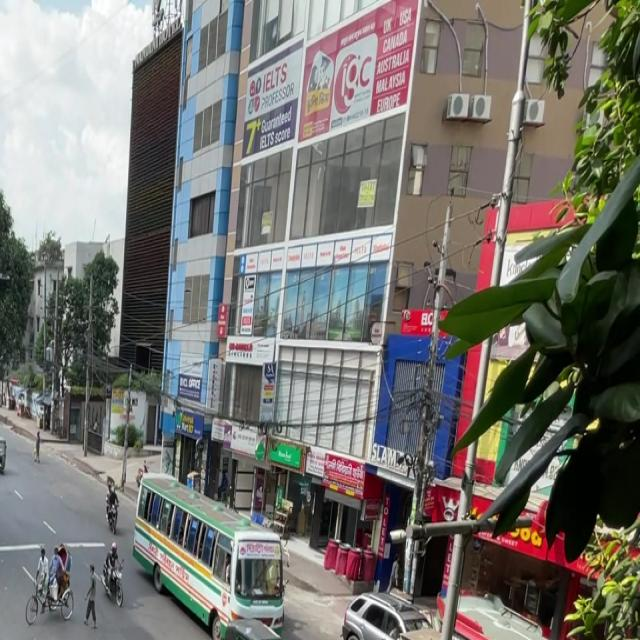bus: (133, 468, 291, 640)
car: (337, 583, 431, 640)
motorbike: (98, 539, 128, 607)
rickshaw: (211, 604, 290, 640)
